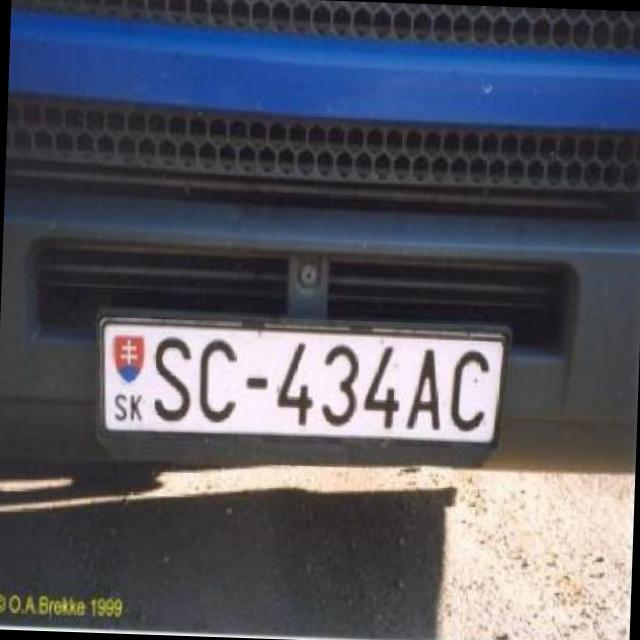LicensePlate: (108, 325, 490, 449)
